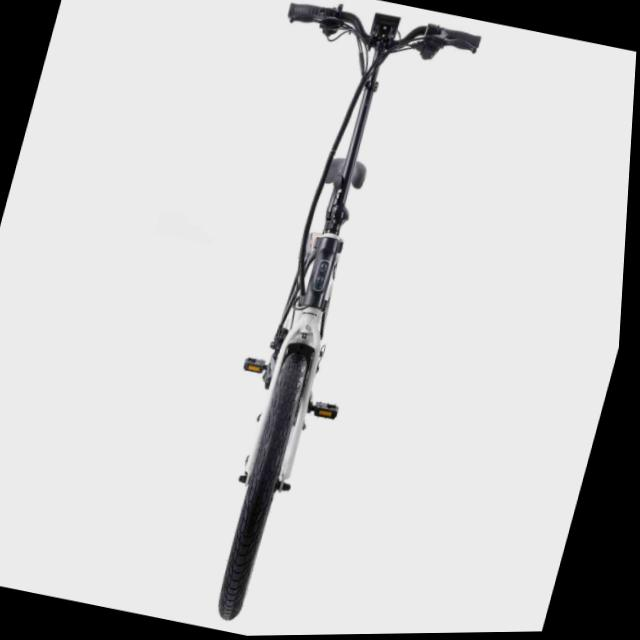folding-bike: (132, 0, 488, 638)
